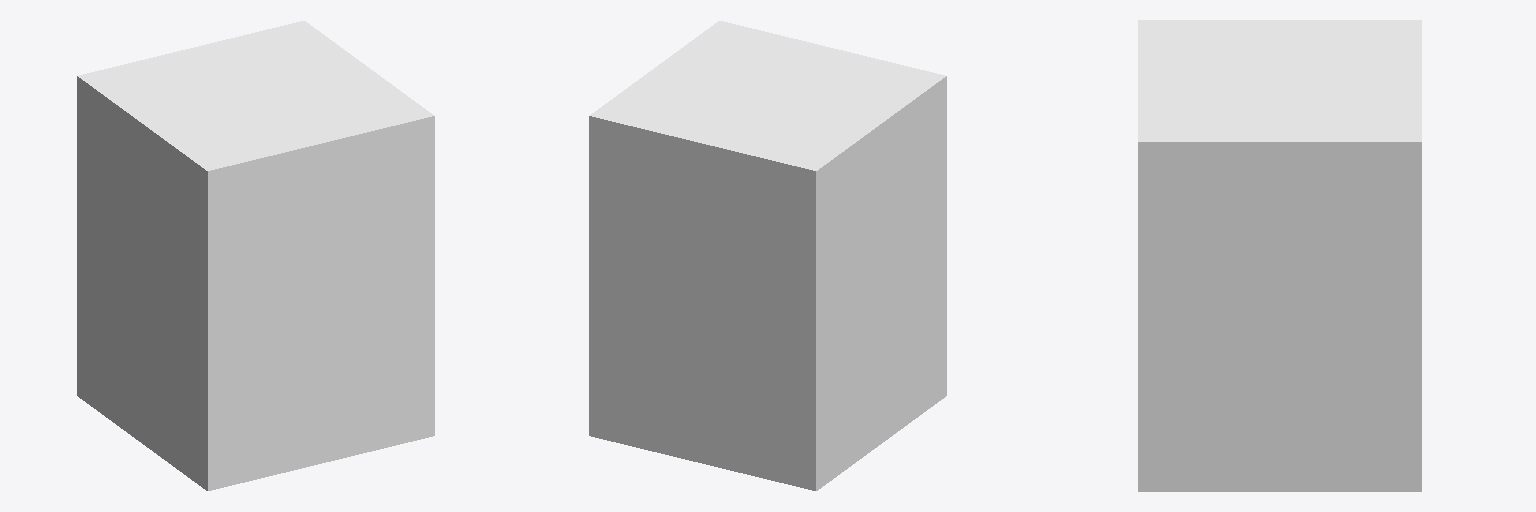
URDF robot description (Pioneer_2-AT_8):
<?xml version="1.0"?>
<robot name="Pioneer_2-AT_8">

<!--Se define el color de los materiales utilizados.-->

  <material name="red">
    <color rgba="0.851 0.0 0.0 1.0"/>
  </material>
  <material name="black">
    <color rgba="0.038 0.038 0.038 1.0"/>
  </material>
  <material name="yellow">
    <color rgba="0.715 0.583 0.210 1.0"/>
  </material>
    <material name="white">
    <color rgba="1.0 1.0 1.0 1.0"/>
  </material>

<!--Comenzamos definiendo cada una de las partes que componen el Pioneer y sus correspondientes uniones(joint)-->

<!-- Chasis -->

<link name="base_link">

    <visual>
      <geometry>
        <mesh filename="[local-path]/catkin_ws/src/pioneer_description/meshes/chasis.stl"/>
      </geometry>
      <origin rpy="0 0 0" xyz="0 0 0.177"/>
      <material name="red"/>
    </visual>

    <collision>
      <geometry>
        <mesh filename="[local-path]/catkin_ws/src/pioneer_description/meshes/chasis.stl"/>
      </geometry>
      <origin rpy="0 0 0" xyz="0 0 0.177"/>
    </collision> 

    <inertial>
      <mass value="17"/>
      <!-- 14kg con una bateria mas otras 2 de 1,5kg cada una = 17kg-->
      <inertia ixx="0.4" ixy="0.0" ixz="0.0" iyy="0.4" iyz="0.0" izz="0.2"/>
      <origin xyz=" -0.1 0 0.177"/>
    </inertial>
    
 </link>


<!-- Cubierta superior -->

<link name="cubierta_link">

    <visual>
      <geometry>
        <mesh filename="[local-path]/catkin_ws/src/pioneer_description/meshes/cubierta.stl"/>
        <origin rpy="0 0 0" xyz="0 0 0"/>
      </geometry>
      
      <material name="black"/>
    </visual>

    <collision>
      <geometry>
        <mesh filename="[local-path]/catkin_ws/src/pioneer_description/meshes/cubierta.stl"/>
        <origin rpy="0 0 0" xyz="0 0 0"/>
      </geometry>
      
    </collision> 

    <inertial>
      <mass value="0.1"/>
      <!--Tomo un valor aproximado(Puede considerarse simbolico)-->
      <origin xyz="-0.025 0 -0.223"/>
      <inertia ixx="1.0" ixy="0.0" ixz="0.0" iyy="1.0" iyz="0.0" izz="1.0"/>
      <!--Matriz de inercias = 1 debido a su bajo efecto-->
    </inertial>
    
 </link>

<joint name="base_cubierta" type="fixed">
    <origin  xyz="0.003 0 0.274" rpy="0 0 0" />
    <parent link="base_link"/>
    <child link="cubierta_link"/>
  </joint>

<!--Lidar sensor: --> 
<link name="lidar_link">

    <visual>
      <geometry>
        <box size="0.156 0.155 0.210"/>
        <origin rpy="0 0 0" xyz="0 0 0"/>
      </geometry>
      
      <material name="white"/>
    </visual>

    <collision>
      <geometry>
        <box size="0.156 0.155 0.210"/>
        <origin rpy="0 0 0" xyz="0 0 0"/>
      </geometry>
      
    </collision> 

    <inertial>
      <mass value="0.1"/>
      <!--Tomo un valor aproximado(Puede considerarse simbolico)-->
      <origin xyz="-0.025 0 -0.223"/>
      <inertia ixx="0.0255" ixy="0.0" ixz="0.0" iyy="0.0256" iyz="0.0" izz="0.0181"/>
      <!--Matriz de inercias = 1 debido a su bajo efecto-->
    </inertial>
    
 </link>

<joint name="lidar_cubierta" type="fixed">
    <origin  xyz="0.136 0 0.08" rpy="0 0 0" />
    <parent link="cubierta_link"/>
    <child link="lidar_link"/>
  </joint>

<!--Sonar sensor: --> 

<link name="Sonar_delantero_link">

    <visual>
      <geometry>
        <mesh filename="[local-path]/catkin_ws/src/pioneer_description/meshes/sonar_delantero.stl"/>
      </geometry>
      <origin rpy="0 0 0" xyz="0 0 0"/>
      <material name="yellow"/>
    </visual>

    <collision>
      <geometry>
        <mesh filename="[local-path]/catkin_ws/src/pioneer_description/meshes/sonar_delantero.stl"/>
      </geometry>
      <origin rpy="0 0 0" xyz="0 0 0"/>
    </collision> 

    <inertial>
      <mass value="0.1"/>
      <!--Tomo un valor aproximado(Puede considerarse simbolico)-->
      <!--<origin xyz="-0.025 0 -0.223"/>-->
      <inertia ixx="1.0" ixy="0.0" ixz="0.0" iyy="1.0" iyz="0.0" izz="1.0"/>
      <!--Matriz de inercias = 1 debido a su bajo efecto-->
    </inertial>

</link>


<link name="Sonar_trasero_link">

    <visual>
      <geometry>
        <mesh filename="[local-path]/catkin_ws/src/pioneer_description/meshes/sonar_trasero.stl"/>
      </geometry>
      <origin rpy="0 0 0" xyz="0 0 0"/>
      <material name="yellow"/>
    </visual>

    <collision>
      <geometry>
        <mesh filename="[local-path]/catkin_ws/src/pioneer_description/meshes/sonar_trasero.stl"/>
      </geometry>
      <origin rpy="0 0 0" xyz="0 0 0"/>
    </collision> 

    <inertial>
      <mass value="0.1"/>
      <!--Tomo un valor aproximado(Puede considerarse simbolico)-->
      <!--<origin xyz="-0.025 0 -0.223"/>-->
      <inertia ixx="1.0" ixy="0.0" ixz="0.0" iyy="1.0" iyz="0.0" izz="1.0"/>
      <!--Matriz de inercias = 1 debido a su bajo efecto-->
    </inertial>

</link>

<joint name="base_sonar_frontal_joint" type="fixed">
    <origin rpy="0 0 0" xyz="0.193 0 0.25"/>
    <parent link="base_link"/>
    <child link="Sonar_delantero_link"/>
  </joint>

<joint name="base_sonar_trasero_joint" type="fixed">
    <origin rpy="0 0 0" xyz="-0.187 0 0.247"/>
    <parent link="base_link"/>
    <child link="Sonar_trasero_link"/>
  </joint>


<!--Ruedas y ejes--> 
<link name="Eje_izq_delantero_link">
      <visual>
      <origin rpy="0 0 0" xyz="0 0 0"/>
      <geometry>
         <mesh filename="[local-path]/catkin_ws/src/pioneer_description/meshes/eje.stl"/>
      </geometry>
      <material name="black"/>
    </visual>

    <collision>
      <origin rpy="0 0 0" xyz="0 0 0"/>
      <geometry>
        <mesh filename="[local-path]/catkin_ws/src/pioneer_description/meshes/eje.stl"/>
      </geometry>
    </collision>

    <inertial>
      <mass value="0.2"/>
      <origin xyz="0 0 0"/>
      <inertia ixx="1" ixy="0" ixz="0" iyy="1" iyz="0" izz="1"/>
    </inertial>

  </link>
   
   <joint name="base_eje_izq_delantero_joint" type="fixed">
    <origin rpy="0 0 0" xyz="0.135 0.156 0.111"/>
    <parent link="base_link"/>
    <child link="Eje_izq_delantero_link"/>
  </joint>


<link name="Rueda_izq_delantera_link">
      <visual>
      <origin rpy="0 0 0" xyz="0 0 0"/>
      <geometry>
         <mesh filename="[local-path]/catkin_ws/src/pioneer_description/meshes/rueda.stl"/>
      </geometry>
      <material name="black"/>
    </visual>

    <collision>
      <origin rpy="-1.57079635 0 0" xyz="0 0 0"/>
      <geometry>
        <cylinder length="0.075" radius="0.111"/>
      </geometry>
    </collision>

    <inertial>
      <mass value="1.4"/>
      <origin xyz="0 0 0"/>
      <inertia ixx="0.012411765597" ixy="0" ixz="0" iyy="0.015218160428" iyz="0" izz="0.011763977943"/>
    </inertial>

  </link>

<joint name="base_ruedaizqdel_joint" type="continuous">
    <axis xyz="0 1 0"/>
    <!--<limit effort="80" velocity="0.268"/>-->
    <joint_properties damping="0.7"/>
    <origin rpy="0 0 0" xyz="0 0.041 0"/>
    <parent link="Eje_izq_delantero_link"/>
    <child link="Rueda_izq_delantera_link"/>
  </joint>

<gazebo reference="Rueda_izq_delantera_link">
      <mu1 value="200.0"/>
      <mu2 value="100.0"/>
      <kp value="10000000.0" />
      <kd value="1.0" />
      <material>Gazebo/Grey</material>
    </gazebo>

<transmission name="rueda_izq_delantera">
    <type>transmission_interface/SimpleTransmission</type>
    <actuator name="rueda_izq_del_motor">
      <mechanicalReduction>1</mechanicalReduction>
    </actuator>
    <joint name="base_ruedaizqdel_joint">
      <hardwareInterface>VelocityJointInterface</hardwareInterface>
    </joint>
  </transmission>

<link name="Eje_der_delantero_link">
      <visual>
      <origin rpy="0 0 0" xyz="0 0 0"/>
      <geometry>
         <mesh filename="[local-path]/catkin_ws/src/pioneer_description/meshes/eje.stl"/>
      </geometry>
      <material name="black"/>
    </visual>

    <collision>
      <origin rpy="0 0 0" xyz="0 0 0"/>
      <geometry>
        <mesh filename="[local-path]/catkin_ws/src/pioneer_description/meshes/eje.stl"/>
      </geometry>
    </collision>

    <inertial>
      <mass value="0.2"/>
      <origin xyz="0 0 0"/>
      <inertia ixx="1" ixy="0" ixz="0" iyy="1" iyz="0" izz="1"/>
    </inertial>

  </link>
   
   <joint name="base_eje_der_delantero_joint" type="fixed">
    <origin rpy="0 0 0" xyz="0.135 -0.156 0.111"/>
    <parent link="base_link"/>
    <child link="Eje_der_delantero_link"/>
  </joint>

<link name="Rueda_der_delantera_link">
      <visual>
      <origin rpy="0 0 0" xyz="0 0 0"/>
      <geometry>
        <mesh filename="[local-path]/catkin_ws/src/pioneer_description/meshes/rueda.stl"/>
      </geometry>
      <material name="black"/>
    </visual>

    <collision>
      <origin rpy="-1.57079635 0 0" xyz="0 0 0"/>
      <geometry>
        <cylinder length="0.075" radius="0.111"/>
      </geometry>
    </collision>

    <inertial>
      <mass value="1.4"/>
      <!--<origin xyz="0 0 0"/>-->
      <inertia ixx="0.012411765597" ixy="0" ixz="0" iyy="0.015218160428" iyz="0" izz="0.011763977943"/>
    </inertial>

  </link>

<joint name="base_ruedaderdel_joint" type="continuous">
    <axis xyz="0 1 0"/>
    <!--<limit effort="80" velocity="0.268"/>-->
    <joint_properties damping="0.7"/>
    <origin rpy="0 0 0" xyz="0 -0.041 0"/>
    <parent link="Eje_der_delantero_link"/>
    <child link="Rueda_der_delantera_link"/>
  </joint>

<gazebo reference="Rueda_der_delantera_link">
      <mu1 value="200.0"/>
      <mu2 value="100.0"/>
      <kp value="10000000.0" />
      <kd value="1.0" />
      <material>Gazebo/Grey</material>
    </gazebo>

<transmission name="rueda_der_delantera">
    <type>transmission_interface/SimpleTransmission</type>
    <actuator name="rueda_der_del_motor">
      <mechanicalReduction>1</mechanicalReduction>
    </actuator>
    <joint name="base_ruedaderdel_joint">
      <hardwareInterface>VelocityJointInterface</hardwareInterface>
    </joint>
  </transmission>

<link name="Eje_izq_trasero_link">
      <visual>
      <origin rpy="0 0 0" xyz="0 0 0"/>
      <geometry>
         <mesh filename="[local-path]/catkin_ws/src/pioneer_description/meshes/eje.stl"/>
      </geometry>
      <material name="black"/>
    </visual>

    <collision>
      <origin rpy="0 0 0" xyz="0 0 0"/>
      <geometry>
        <mesh filename="[local-path]/catkin_ws/src/pioneer_description/meshes/eje.stl"/>
      </geometry>
    </collision>

    <inertial>
      <mass value="0.2"/>
      <origin xyz="0 0 0"/>
      <inertia ixx="1" ixy="0" ixz="0" iyy="1" iyz="0" izz="1"/>
    </inertial>

  </link>
   
   <joint name="base_eje_izq_trasero_joint" type="fixed">
    <origin rpy="0 0 0" xyz="-0.135 0.156 0.111"/>
    <parent link="base_link"/>
    <child link="Eje_izq_trasero_link"/>
  </joint>

<link name="Rueda_izq_trasera_link">
      <visual>
      <origin rpy="0 0 0" xyz="0 0 0"/>
      <geometry>
        <mesh filename="[local-path]/catkin_ws/src/pioneer_description/meshes/rueda.stl"/>
      </geometry>
      <material name="black"/>
    </visual>

    <collision>
      <origin rpy="-1.57079635 0 0" xyz="0 0 0"/>
      <geometry>
        <cylinder length="0.075" radius="0.111"/>
      </geometry>
    </collision>

    <inertial>
      <mass value="1.4"/>
      <!--<origin xyz="0 0 0"/>-->
      <inertia ixx="0.012411765597" ixy="0" ixz="0" iyy="0.015218160428" iyz="0" izz="0.011763977943"/>
    </inertial>

  </link>

<joint name="base_ruedaizqtra_joint" type="continuous">
    <axis xyz="0 1 0"/>
    <!--<limit effort="80" velocity="0.268"/>-->
    <joint_properties damping="0.7"/>
    <origin rpy="0 0 0" xyz="0 0.041 0"/>
    <parent link="Eje_izq_trasero_link"/>
    <child link="Rueda_izq_trasera_link"/>
  </joint>

<gazebo reference="Rueda_izq_trasera_link">
      <mu1 value="200.0"/>
      <mu2 value="100.0"/>
      <kp value="10000000.0" />
      <kd value="1.0" />
      <material>Gazebo/Grey</material>
    </gazebo>

<transmission name="rueda_izq_trasera">
    <type>transmission_interface/SimpleTransmission</type>
    <actuator name="rueda_izq_tras_motor">
      <mechanicalReduction>1</mechanicalReduction>
    </actuator>
    <joint name="base_ruedaizqtra_joint">
      <hardwareInterface>VelocityJointInterface</hardwareInterface>
    </joint>
  </transmission>


<link name="Eje_der_trasero_link">
      <visual>
      <origin rpy="0 0 0" xyz="0 0 0"/>
      <geometry>
         <mesh filename="[local-path]/catkin_ws/src/pioneer_description/meshes/eje.stl"/>
      </geometry>
      <material name="black"/>
    </visual>

    <collision>
      <origin rpy="0 0 0" xyz="0 0 0"/>
      <geometry>
        <mesh filename="[local-path]/catkin_ws/src/pioneer_description/meshes/eje.stl"/>
      </geometry>
    </collision>

    <inertial>
      <mass value="0.2"/>
      <origin xyz="0 0 0"/>
      <inertia ixx="1" ixy="0" ixz="0" iyy="1" iyz="0" izz="1"/>
    </inertial>

  </link>
   
   <joint name="base_eje_der_trasero_joint" type="fixed">
    <origin rpy="0 0 0" xyz="-0.135 -0.156 0.111"/>
    <parent link="base_link"/>
    <child link="Eje_der_trasero_link"/>
  </joint>

<link name="Rueda_der_trasera_link">
      <visual>
      <origin rpy="0 0 0" xyz="0 0 0"/>
      <geometry>
        <mesh filename="[local-path]/catkin_ws/src/pioneer_description/meshes/rueda.stl"/>
      </geometry>
      <material name="black"/>
    </visual>

    <collision>
      <origin rpy="-1.57079635 0 0" xyz="0 0 0"/>
      <geometry>
        <cylinder length="0.075" radius="0.111"/>
      </geometry>
    </collision>

    <inertial>
      <mass value="1.4"/>
      <!--<origin xyz="0 0 0"/>-->
      <inertia ixx="0.012411765597" ixy="0" ixz="0" iyy="0.015218160428" iyz="0" izz="0.011763977943"/>
    </inertial>

  </link>

<joint name="base_ruedadertra_joint" type="continuous">
    <axis xyz="0 1 0"/>
    <!--<limit effort="80" velocity="0.268"/>-->
    <joint_properties damping="0.7"/>
    <origin rpy="0 0 0" xyz="0 -0.041 0"/>
    <parent link="Eje_der_trasero_link"/>
    <child link="Rueda_der_trasera_link"/>
  </joint>

<gazebo reference="Rueda_der_trasera_link">
      <mu1 value="200.0"/>
      <mu2 value="100.0"/>
      <kp value="10000000.0" />
      <kd value="1.0" />
      <material>Gazebo/Grey</material>
    </gazebo>

<transmission name="rueda_der_trasera">
    <type>transmission_interface/SimpleTransmission</type>
    <actuator name="rueda_der_tra_motor">
      <mechanicalReduction>1</mechanicalReduction>
    </actuator>
    <joint name="base_ruedadertra_joint">
      <hardwareInterface>VelocityJointInterface</hardwareInterface>
    </joint>
  </transmission>

  <!-- Gazebo plugin for ROS Control -->
  <gazebo>
    <plugin name="gazebo_ros_control" filename="libgazebo_ros_control.so">
      <robotNamespace>/</robotNamespace>
    </plugin>
  </gazebo>



<gazebo reference="base_link">
      <material>Gazebo/Red</material>
</gazebo>

<gazebo reference="cubierta_link">
      <material>Gazebo/Black</material>
</gazebo>

<gazebo reference="Sonar_delantero_link">
      <material>Gazebo/Yellow</material>
</gazebo>

<gazebo reference="Sonar_trasero_link">
      <material>Gazebo/Yellow</material>
</gazebo>

</robot>

 

--- What the picture shows (computed from the rendered views, not written in the file) ---
The picture shows the robot from 3 angles, left to right: view 1: azimuth 30°, elevation 25°; view 2: azimuth 150°, elevation 25°; view 3: azimuth 270°, elevation 25°; orthographic projection.
Model Pioneer_2-AT_8 with 13 links and 12 joints (4 continuous, 8 fixed), rooted at base_link, posed all joints at 0.
Visible links, largest first — view 1: lidar_link; view 2: lidar_link; view 3: lidar_link.
Link boxes in pixels (left/top/right/bottom): lidar_link: left=77, top=21, right=434, bottom=490; lidar_link: left=589, top=21, right=946, bottom=490; lidar_link: left=1138, top=20, right=1421, bottom=491.
Size in the robot's own frame: 0.156 by 0.155 by 0.21 metres.
Geometry: only primitive shapes (box / cylinder / sphere) drawn; not drawn: 12 mesh visuals (reference in a form the renderer does not follow).